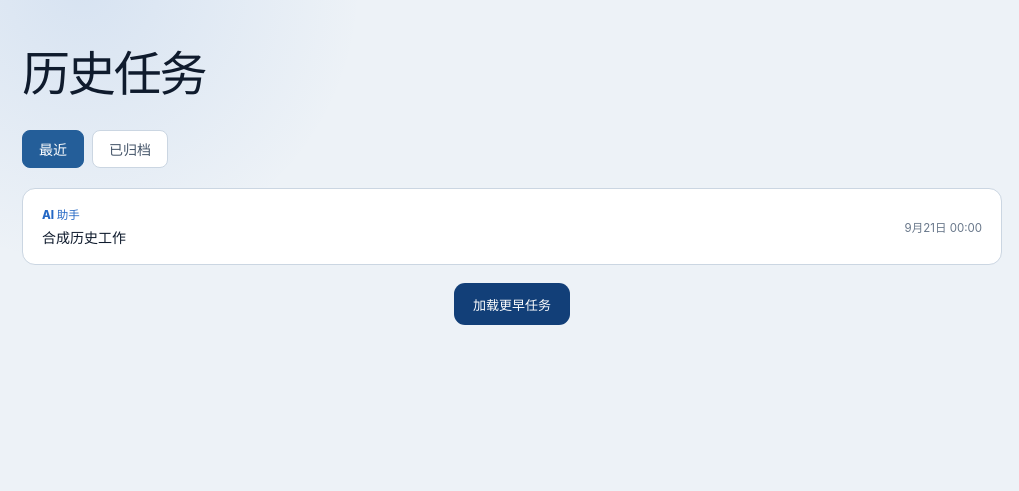
Test case: clears already displayed history if pagination loses authorization
This screenshot has width=1019, height=491.
Click the button "加载更早任务": (512, 304) left=454, top=283, right=570, bottom=325
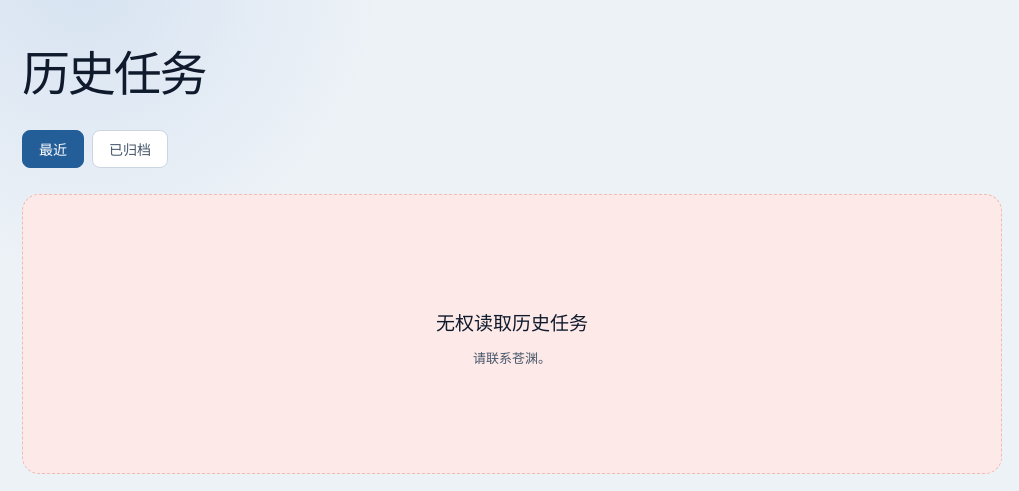
Expected: the text "无权读取历史任务" is shown, left=436, top=308, right=588, bottom=335
Expected: the text "合成历史工作" is gone
Expected: the button with class "mission-load-more" is gone
